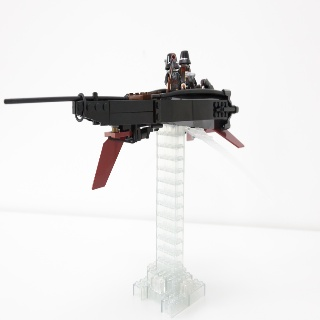rifle: (3, 50, 243, 191)
